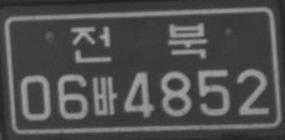0: (19, 75, 51, 121)
2: (237, 68, 270, 115)
4: (123, 72, 154, 117)
5: (197, 69, 231, 116)
6: (56, 73, 89, 120)
8: (160, 70, 193, 117)
바: (92, 76, 118, 115)
전북_D: (70, 22, 209, 63)
